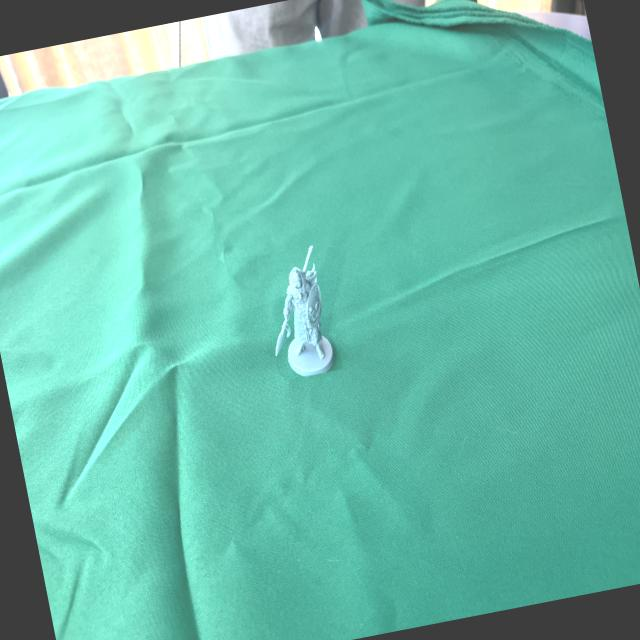isis_follower: (256, 245, 343, 381)
